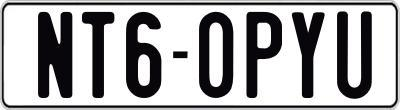0: (197, 11, 231, 98)
6: (124, 9, 165, 95)
N: (37, 9, 71, 97)
P: (244, 12, 281, 98)
T: (79, 10, 113, 102)
U: (335, 11, 372, 101)
Y: (290, 9, 323, 101)
